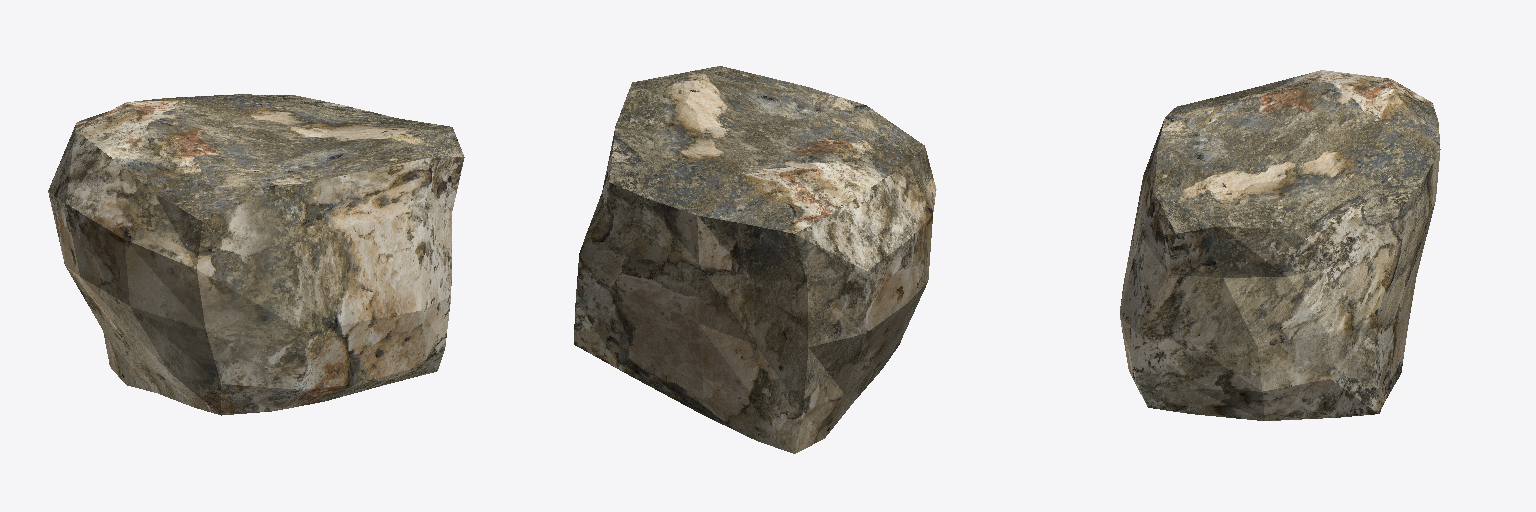
3 renders of one model, left to right at view 1: azimuth 30°, elevation 25°; view 2: azimuth 150°, elevation 25°; view 3: azimuth 270°, elevation 25°, orthographic.
Parts seen in each view (by area): view 1: 立方体_立方体.001; view 2: 立方体_立方体.001; view 3: 立方体_立方体.001.
Part boxes in pixels (x1,y1,x2,y2): 立方体_立方体.001: (48,94,464,415); 立方体_立方体.001: (574,66,936,453); 立方体_立方体.001: (1120,70,1440,420).
Bounding box in the file's own units: 3.22 × 2.46 × 2.69.
Materials: 1 (1 with a texture image).